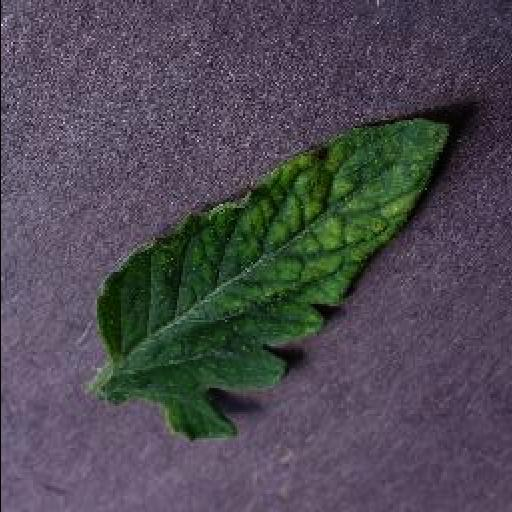disease_tomato: (96, 118, 454, 446)
